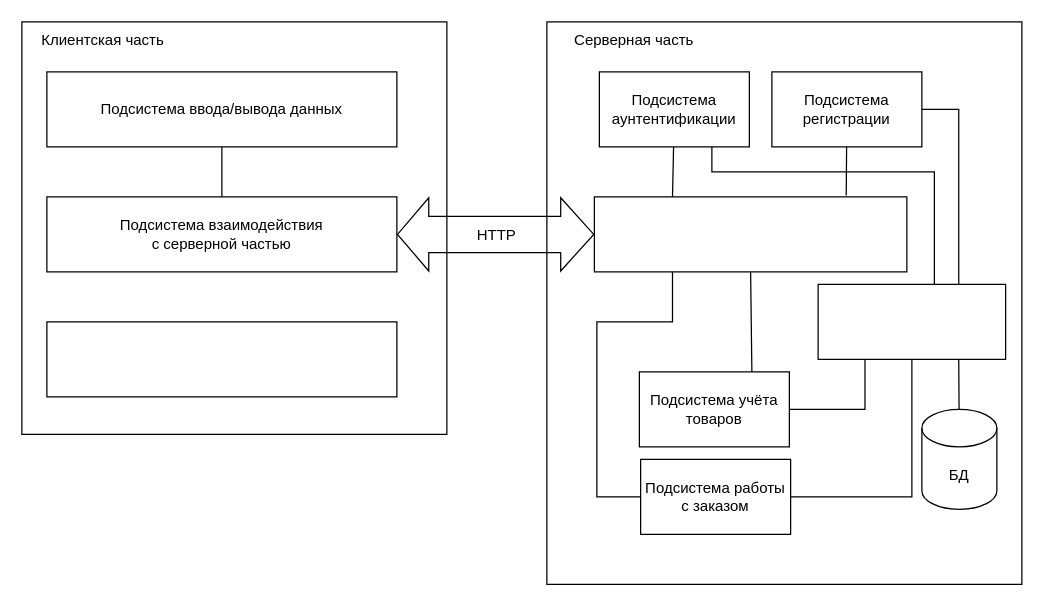
Some shapes in this 1044 by 606 pixel diagram are drawn without their labels. The shapes that lost their labels are listed below. From the top down, each one's centre as x and y in pixels, then its label:
At point (750, 234): "Подсистема взаимодействия с клиентской частью".
At point (911, 321): "Подсистема взаимодействия с БД".
At point (221, 359): "Справочная подсистема".
